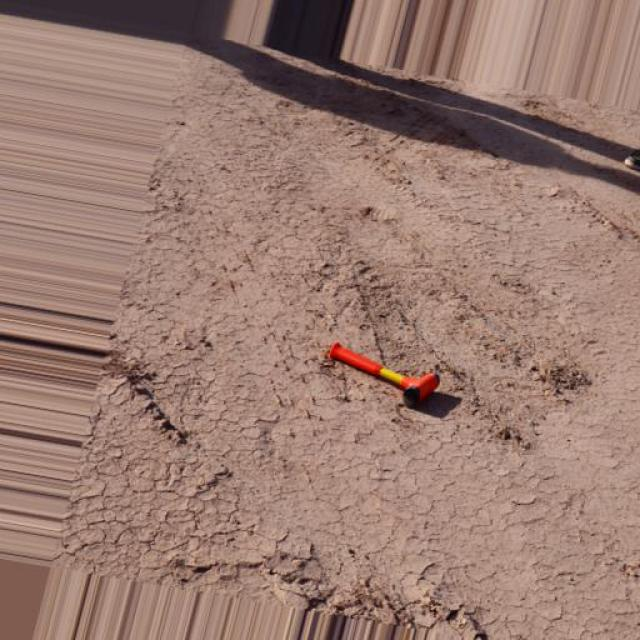mallet: (324, 340, 440, 408)
